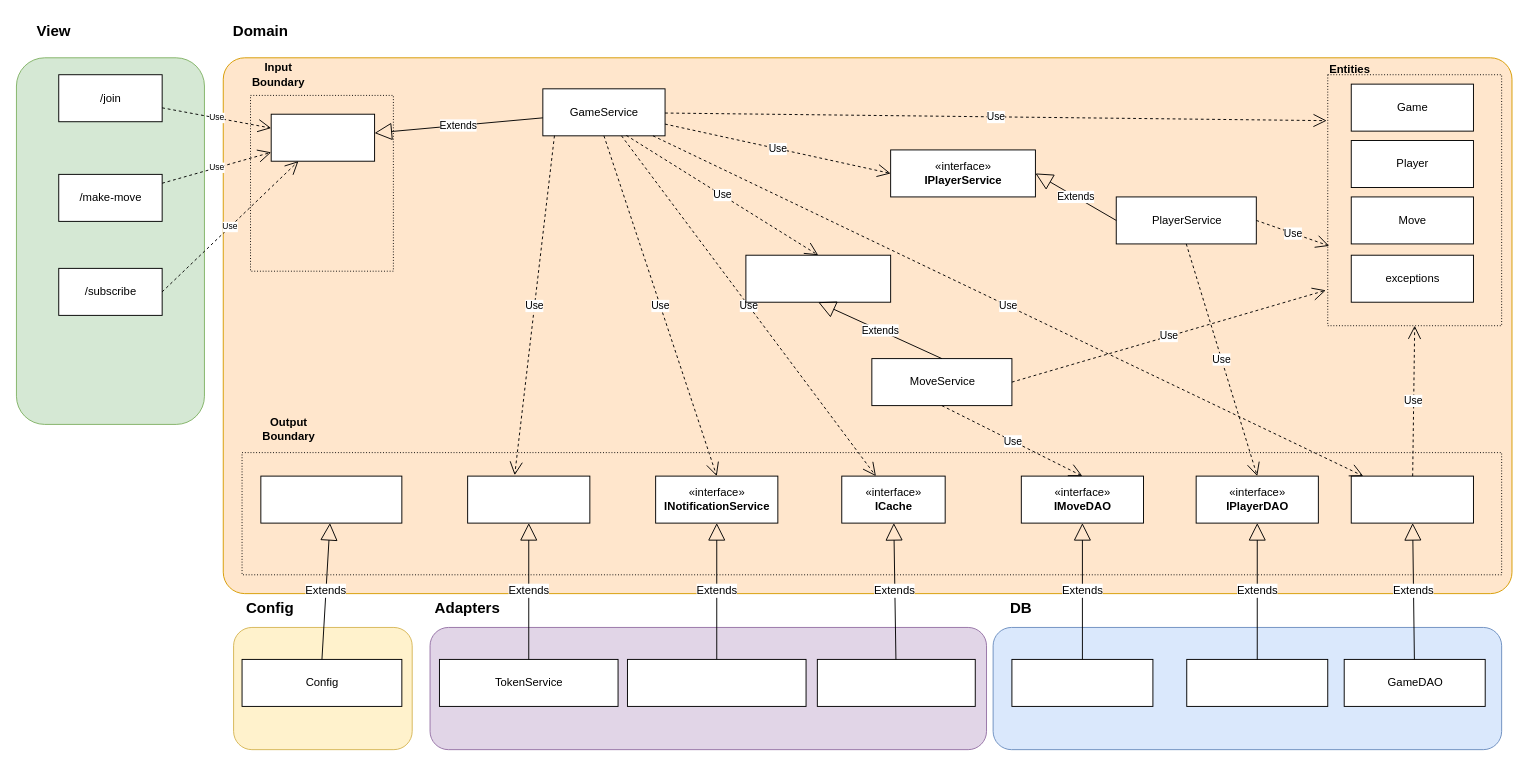
Image size: 1528x766. Some labels were removed from this diagram. Each missing label, with the box of its shape:
CacheService: (816, 658, 975, 706)
MoveDAO: (1011, 658, 1153, 706)
NotificationService: (627, 658, 806, 706)
PlayerDAO: (1186, 658, 1328, 706)
«interface» IConfig: (260, 475, 402, 523)
«interface» IGameDAO: (1350, 475, 1473, 523)
«interface» IGameService: (270, 113, 375, 161)
«interface» IMoveService: (745, 254, 891, 302)
«interface» ITokenService: (467, 475, 590, 523)
